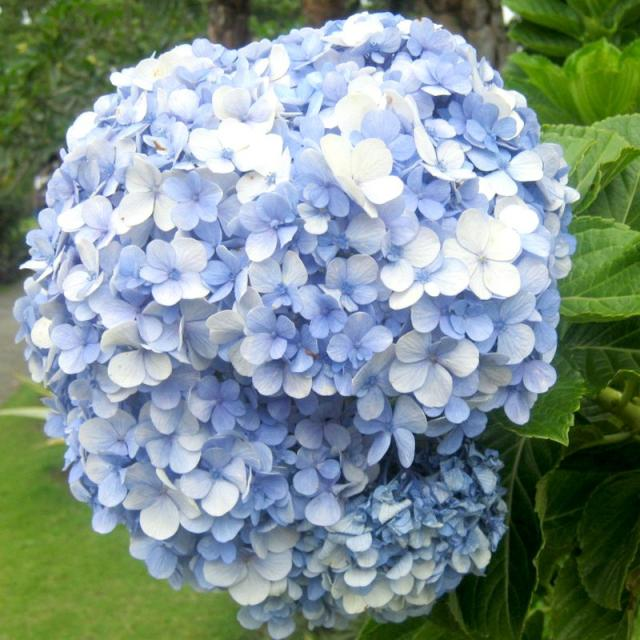Flower: (20, 10, 591, 639)
